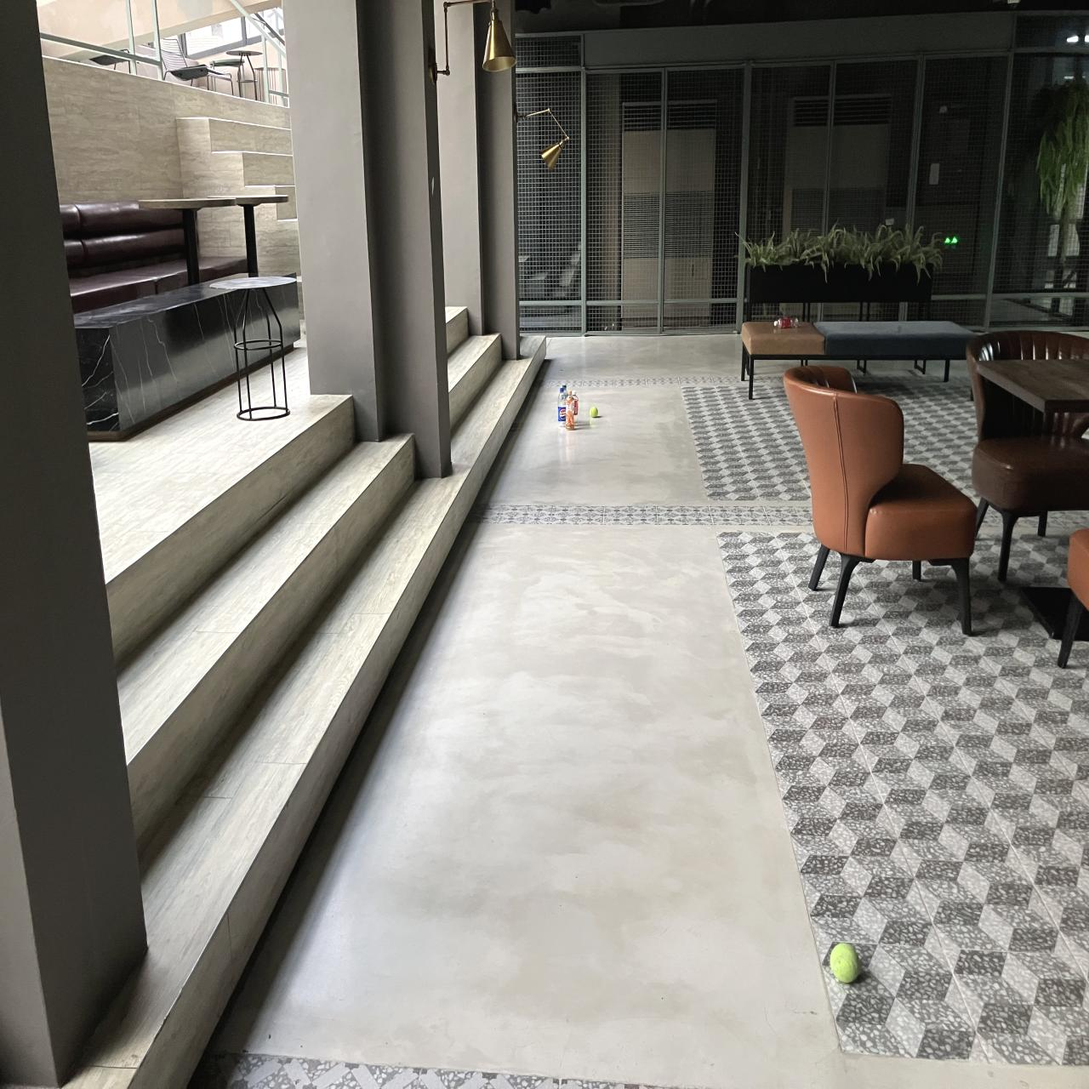plastic-bottle: (560, 384, 569, 423), (558, 388, 566, 427), (566, 391, 574, 430), (572, 391, 578, 426)
tennisball: (830, 944, 859, 984), (590, 407, 598, 418)
